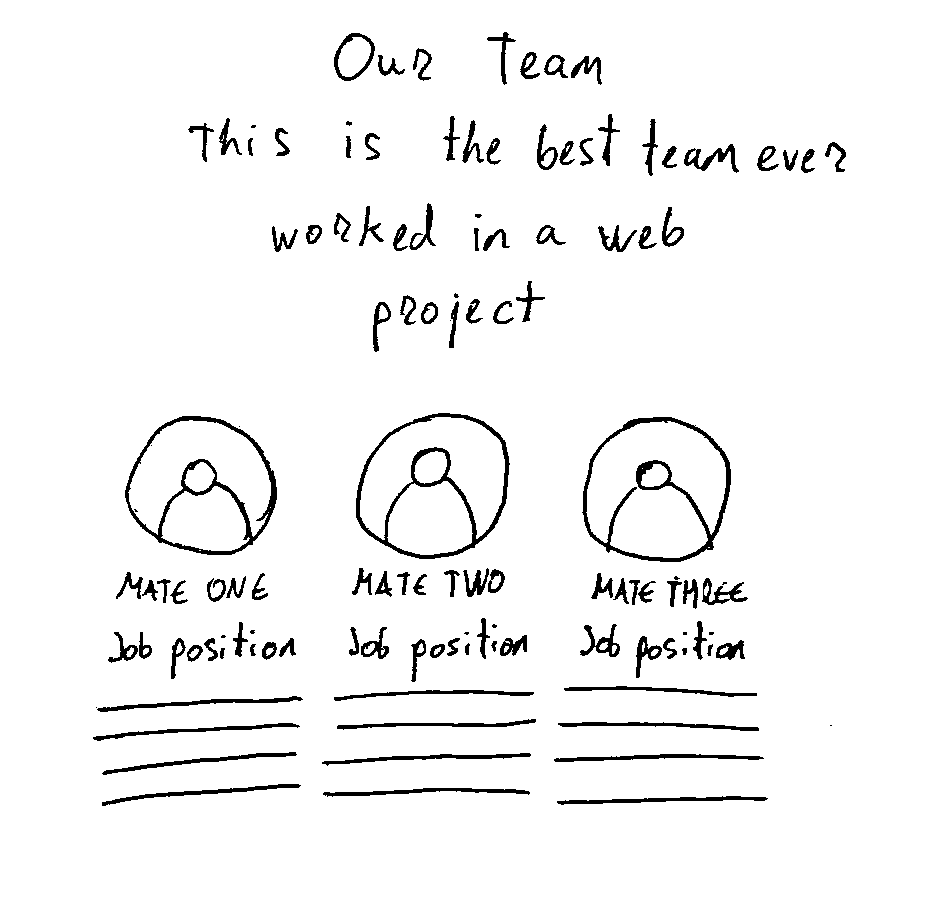Paragraph: (551, 681, 776, 808), (317, 688, 540, 800), (95, 693, 304, 811)
